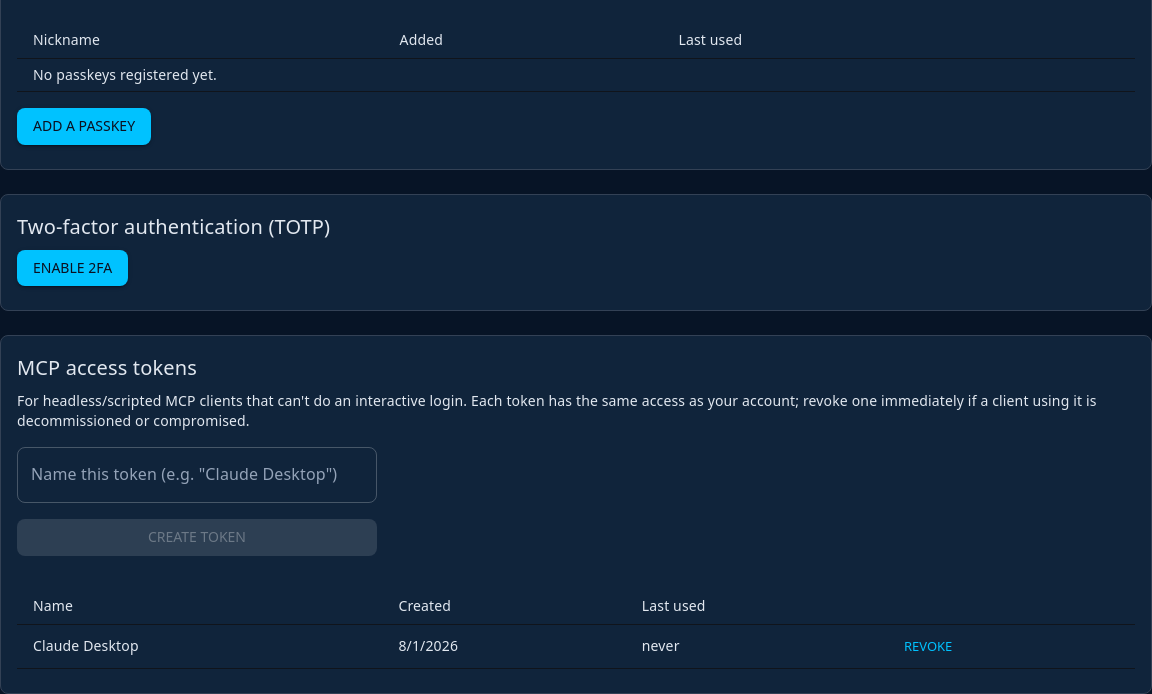
Scenario: Security › revokes an MCP token and reloads the list once the confirm dialog is accepted
(page scrolled)
Check: the text "Claude Desktop" is shown, box [17,624,382,668]
Click the button "Revoke" at (928, 646), box [896,631,960,662]
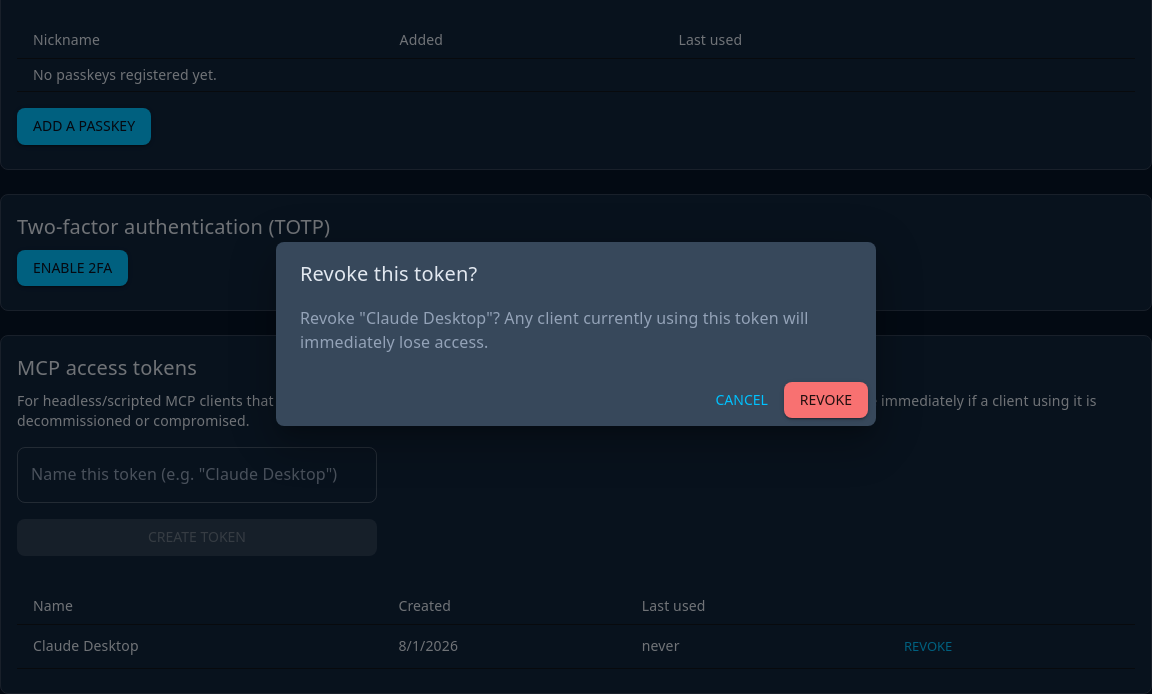
Click the button "Revoke" at (826, 400), box [784,382,868,418]
(page scrolled)
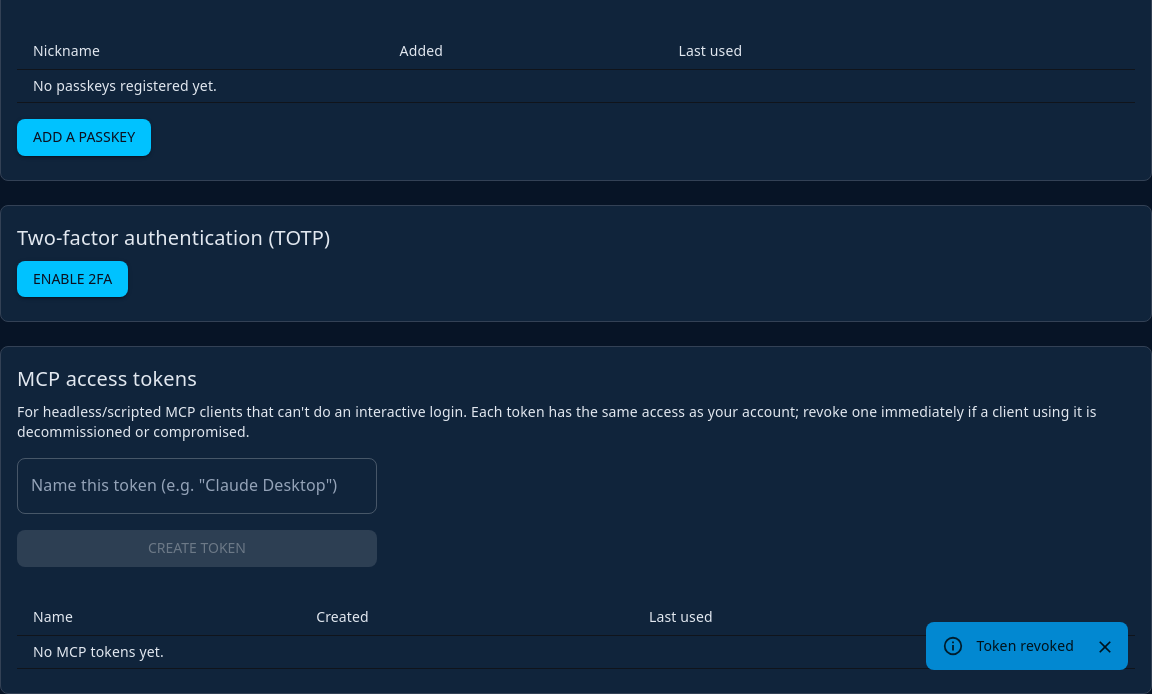
Check: the text "Token revoked" is shown, box [976,636,1074,655]
